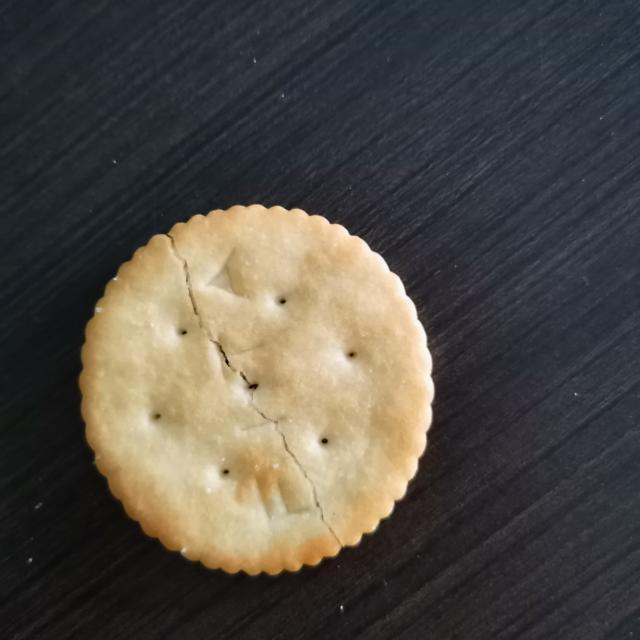Fracture: (147, 222, 363, 562)
